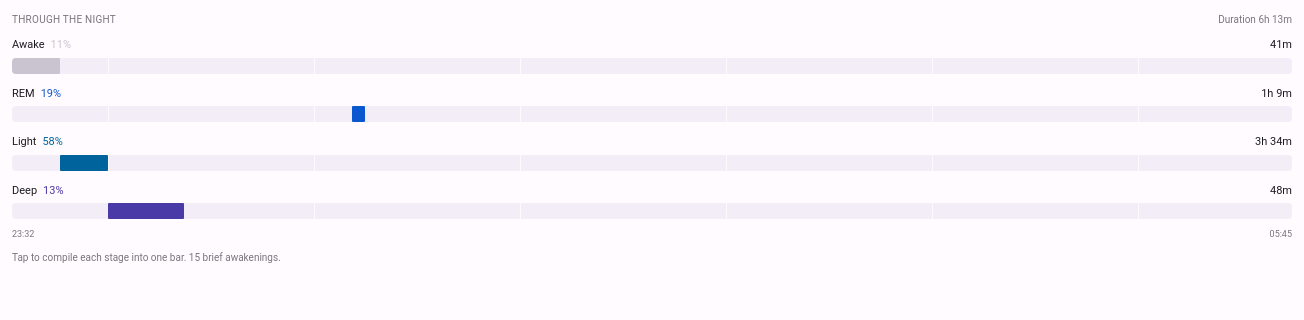
Test: SleepHypnogram — the night against the clock › lays the night back out on a second tap
Click the text "Deep" at [38, 191], box [12,182,64,199]
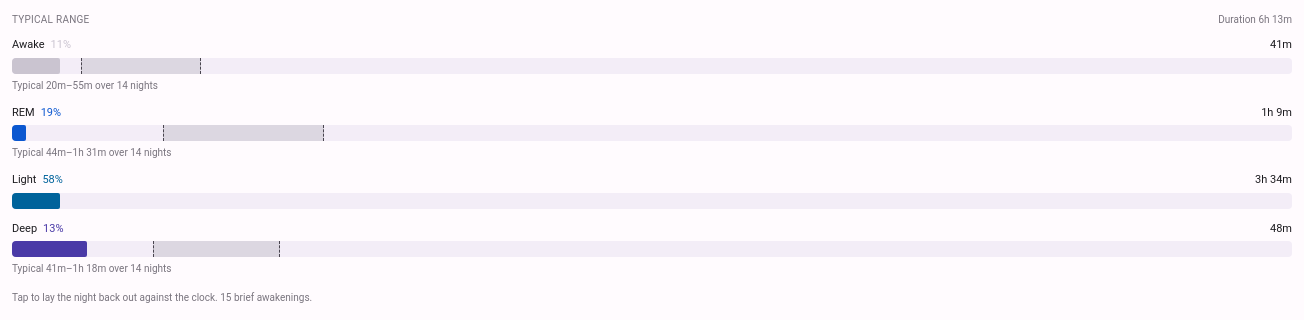
expect the text "lay the night back out" is shown: met, box [12,292,218,303]
Click the text "Deep" at [38, 229], box [12,220,64,237]
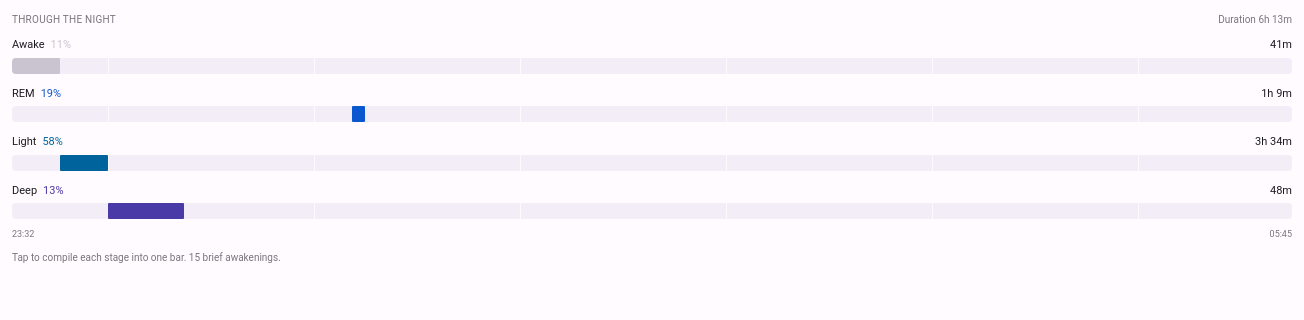
expect the text "Tap to compile each stage into one bar. 15 brief awakenings." is shown: met, box [12,252,281,262]
